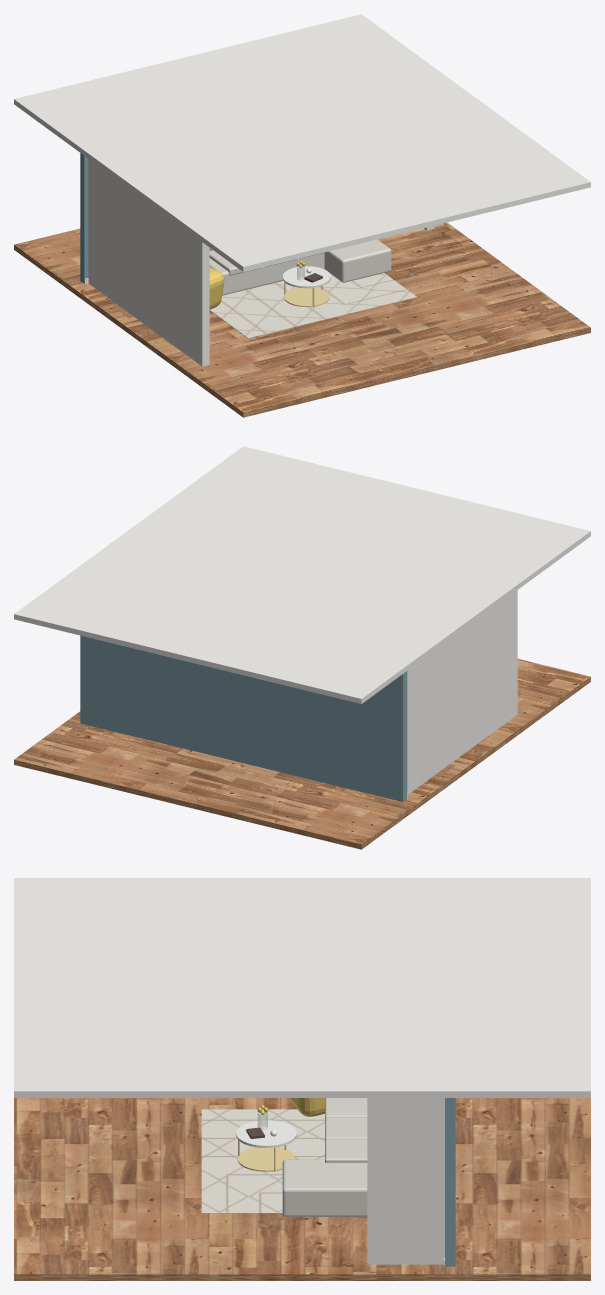
File: apartment_super_realistic.glb
3 renders of one model, top to bottom at view 1: azimuth 30°, elevation 25°; view 2: azimuth 150°, elevation 25°; view 3: azimuth 270°, elevation 25°, orthographic. The views are drawn at different scales.
Parts seen in each view (by area): view 1: Ceiling, Floor, Left_Wall, Area_Rug, Sofa_Chaise, Sofa_Base, Accent_Back_Wall, CoffeeTable_Marble, CoffeeTable_BrassRing, Yellow_Accent_Pouf; view 2: Ceiling, Accent_Back_Wall, Floor, Left_Wall; view 3: Ceiling, Floor, Right_Wall_Partial, Area_Rug, Sofa_Chaise, Accent_Back_Wall, CoffeeTable_Marble, CoffeeTable_BrassRing, Seat_Cushion.002, Seat_Cushion.001, Seat_Cushion, Yellow_Accent_Pouf.
Boxes of the visible parts, x1,y1,x2,y2 form: Ceiling: (14, 14, 590, 271); Floor: (14, 222, 590, 417); Left_Wall: (88, 159, 209, 366); Area_Rug: (210, 273, 416, 338); Sofa_Chaise: (324, 239, 391, 282); Sofa_Base: (209, 253, 324, 295); Accent_Back_Wall: (80, 153, 88, 283); CoffeeTable_Marble: (282, 266, 330, 288); CoffeeTable_BrassRing: (284, 287, 329, 307); Yellow_Accent_Pouf: (209, 267, 224, 309); Ceiling: (14, 446, 590, 703); Accent_Back_Wall: (80, 635, 407, 801); Floor: (14, 659, 590, 849); Left_Wall: (407, 590, 517, 794); Ceiling: (14, 878, 590, 1097); Floor: (14, 1098, 590, 1280); Right_Wall_Partial: (367, 1098, 444, 1264); Area_Rug: (201, 1109, 324, 1213); Sofa_Chaise: (282, 1159, 367, 1216); Accent_Back_Wall: (445, 1098, 455, 1266); CoffeeTable_Marble: (236, 1120, 296, 1147); CoffeeTable_BrassRing: (237, 1147, 295, 1171); Seat_Cushion.002: (325, 1139, 367, 1162); Seat_Cushion.001: (325, 1117, 367, 1139); Seat_Cushion: (325, 1098, 367, 1118); Yellow_Accent_Pouf: (288, 1098, 324, 1116).
Bounding box in the file's own units: 7 × 2.9 × 8.
Materials: 15 (5 with a texture image).
